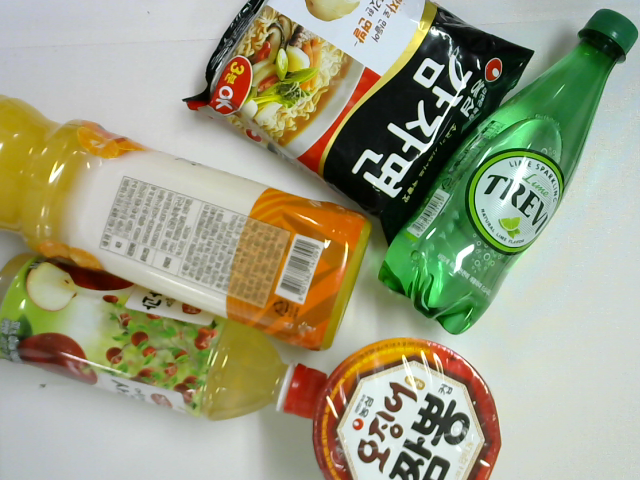Jeju_Tangerine_1.5L: (1, 87, 378, 353)
Morning_Apple_500ml: (1, 252, 328, 423)
Ojjam: (314, 333, 504, 480)
Potato: (177, 1, 536, 253)
Treviraim_500ml: (376, 8, 640, 337)
